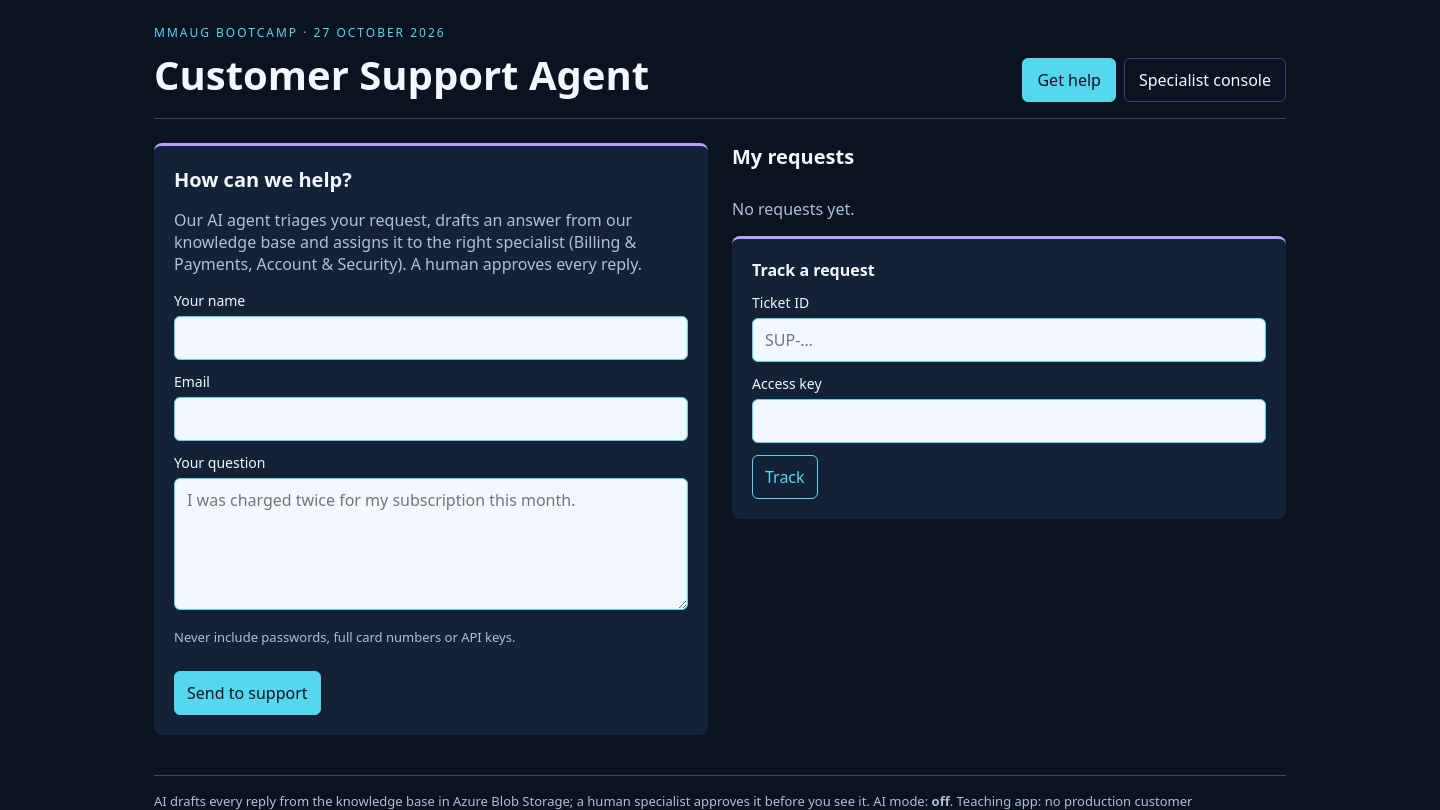
customer portal › submits a request and shows the approved reply
Step 1. Type "Thandar" into the field labelled "Your name" → (431, 338), box left=174, top=316, right=688, bottom=360
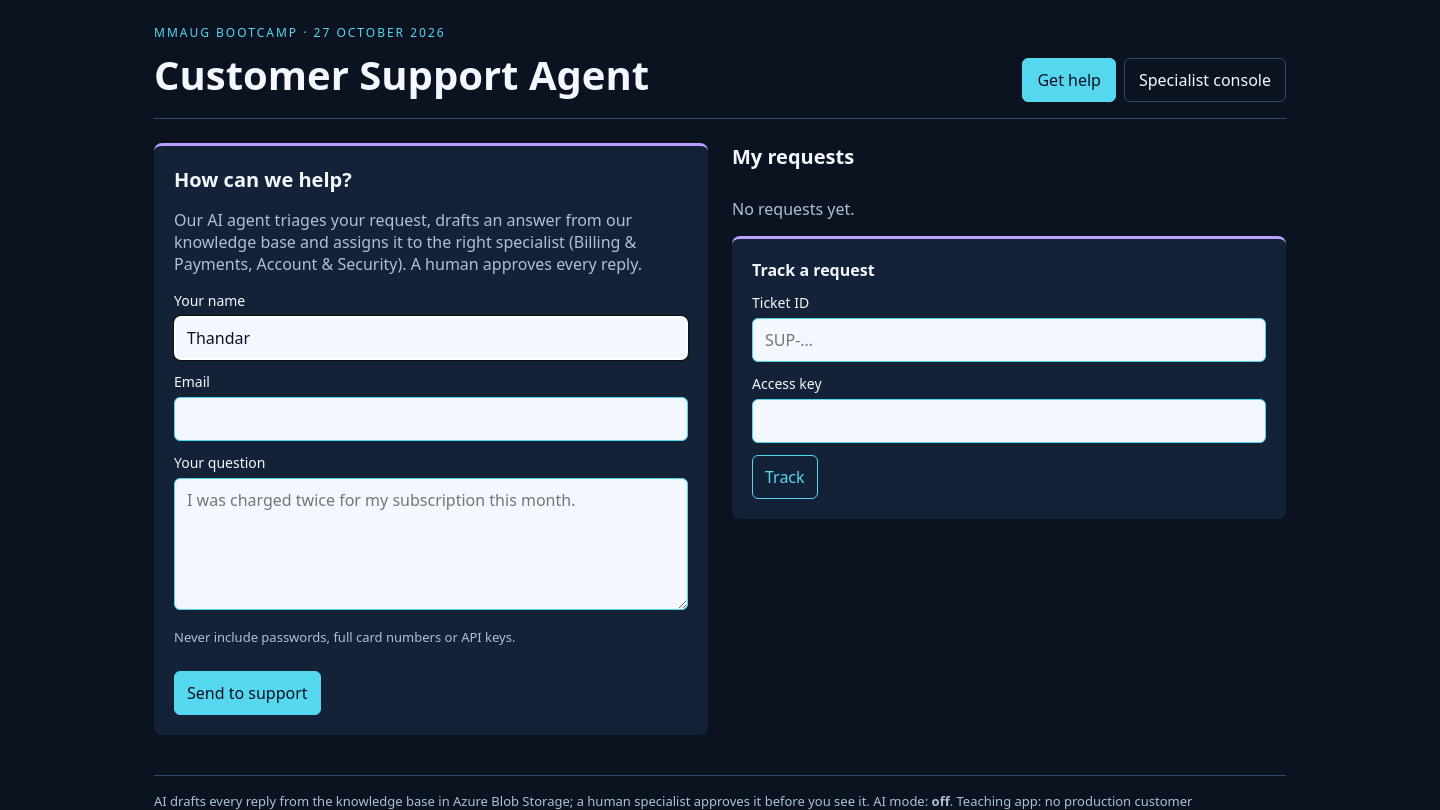
Step 2. Type "thandar@example.com" into the field labelled "Email" → (431, 419), box left=174, top=397, right=688, bottom=441
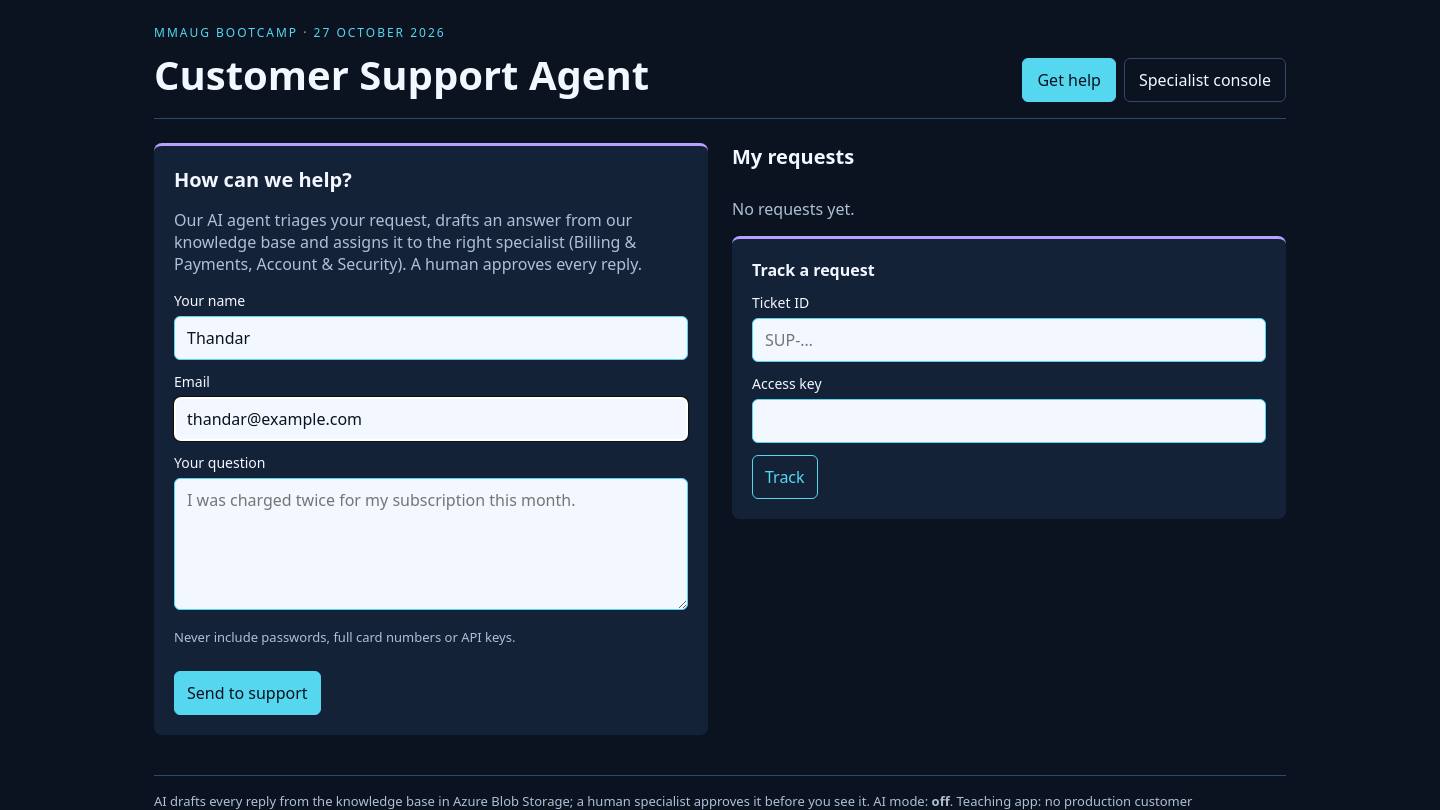
Step 3. Type "I was charged twice." into the text box labelled "Your question" → (431, 544), box left=174, top=478, right=688, bottom=610
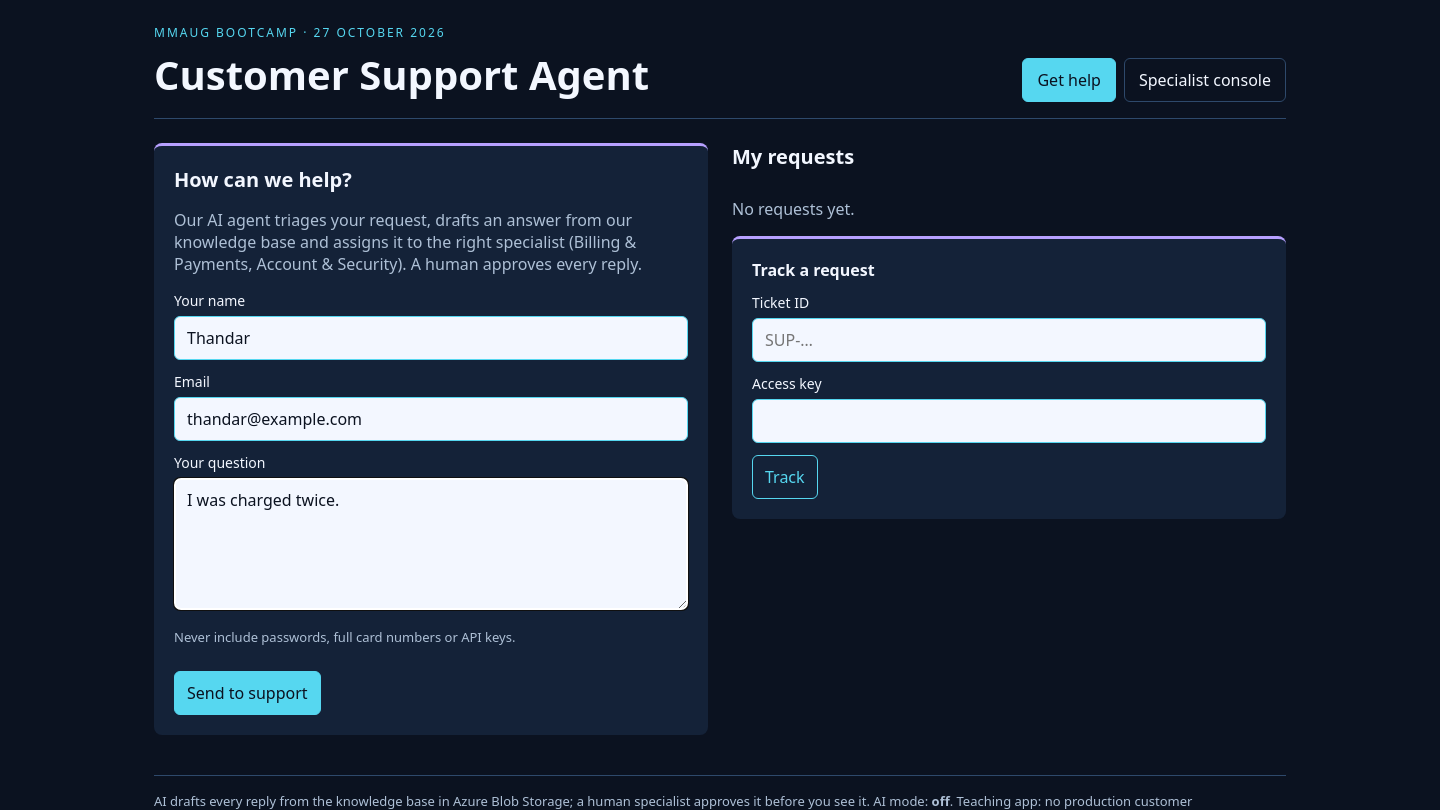
Step 4. Click the button "Send to support" → (247, 693), box left=174, top=671, right=321, bottom=715
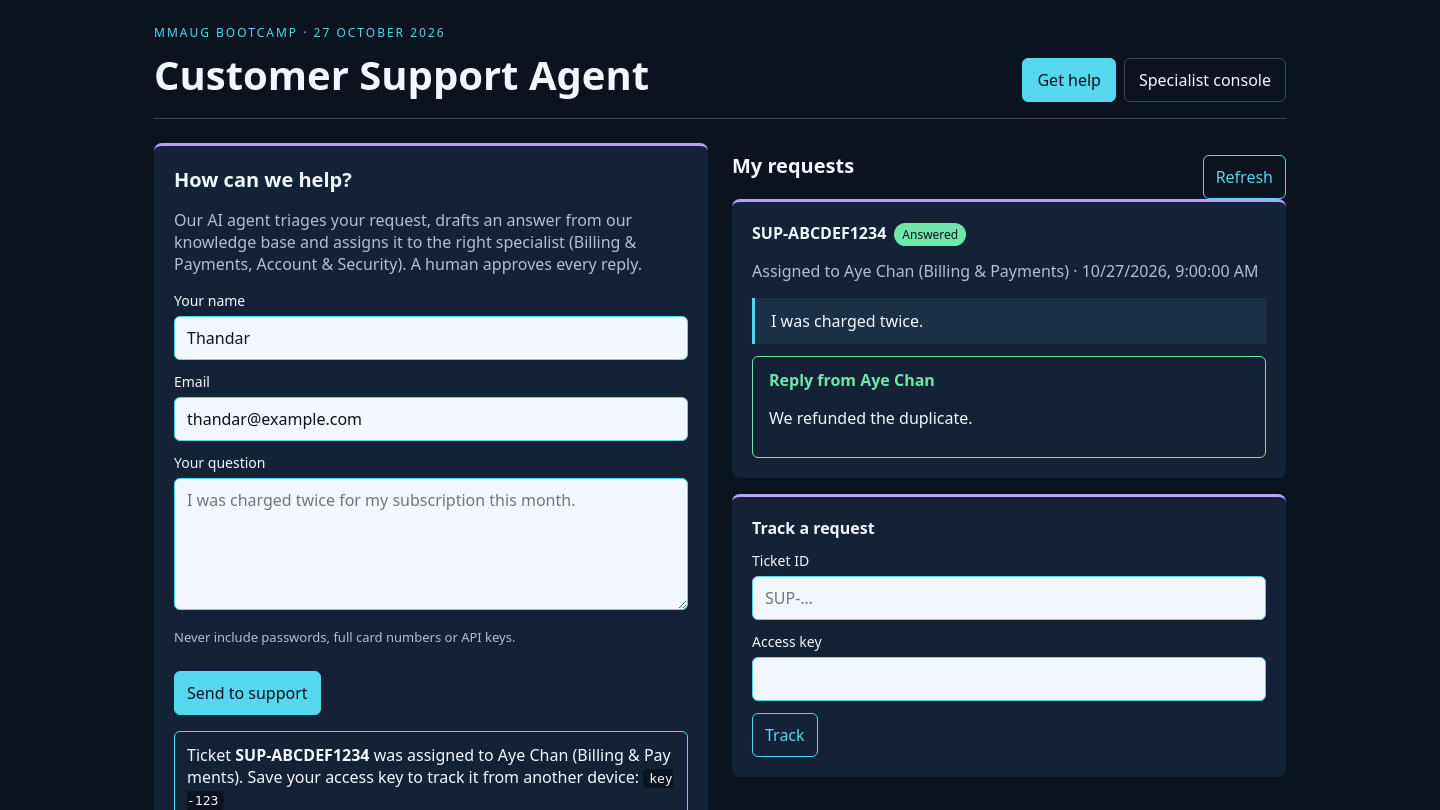
Now the text "key-123" is shown, box left=187, top=769, right=673, bottom=809
Now the message shows "key-123", box left=187, top=771, right=673, bottom=808
Now the text "We refunded the duplicate." is shown, box left=769, top=407, right=973, bottom=429
